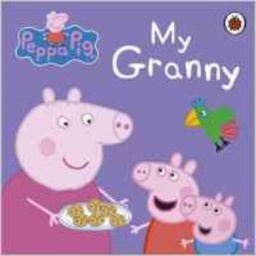Peppa: (128, 152, 201, 256)
